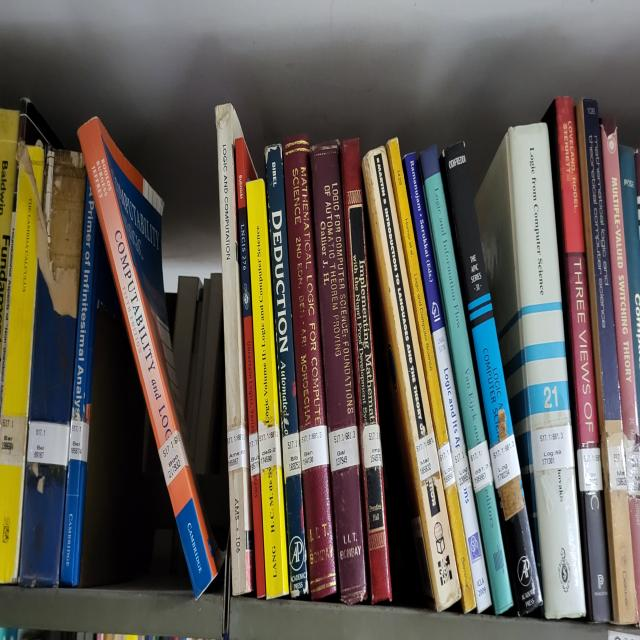Book: (79, 119, 221, 598), (476, 124, 586, 620), (362, 141, 464, 611), (420, 146, 512, 611), (386, 138, 476, 611), (404, 154, 491, 611), (576, 100, 638, 625), (310, 141, 368, 603), (282, 135, 336, 601), (61, 181, 120, 587), (340, 138, 391, 603), (265, 146, 309, 598), (215, 103, 255, 595), (601, 119, 640, 617), (246, 179, 289, 598), (235, 138, 266, 598), (30, 268, 76, 425), (566, 252, 599, 444), (472, 314, 512, 449), (519, 541, 541, 614)
Label: (531, 425, 574, 471), (28, 422, 70, 465), (490, 433, 520, 490), (159, 430, 188, 487), (329, 425, 359, 471), (300, 425, 329, 471), (415, 433, 440, 482), (468, 441, 492, 492), (258, 419, 281, 471), (578, 446, 602, 492), (608, 441, 628, 492), (228, 425, 249, 473), (69, 419, 89, 463), (282, 433, 301, 479), (362, 425, 382, 468), (438, 441, 455, 490), (625, 449, 640, 495), (249, 430, 260, 476)
